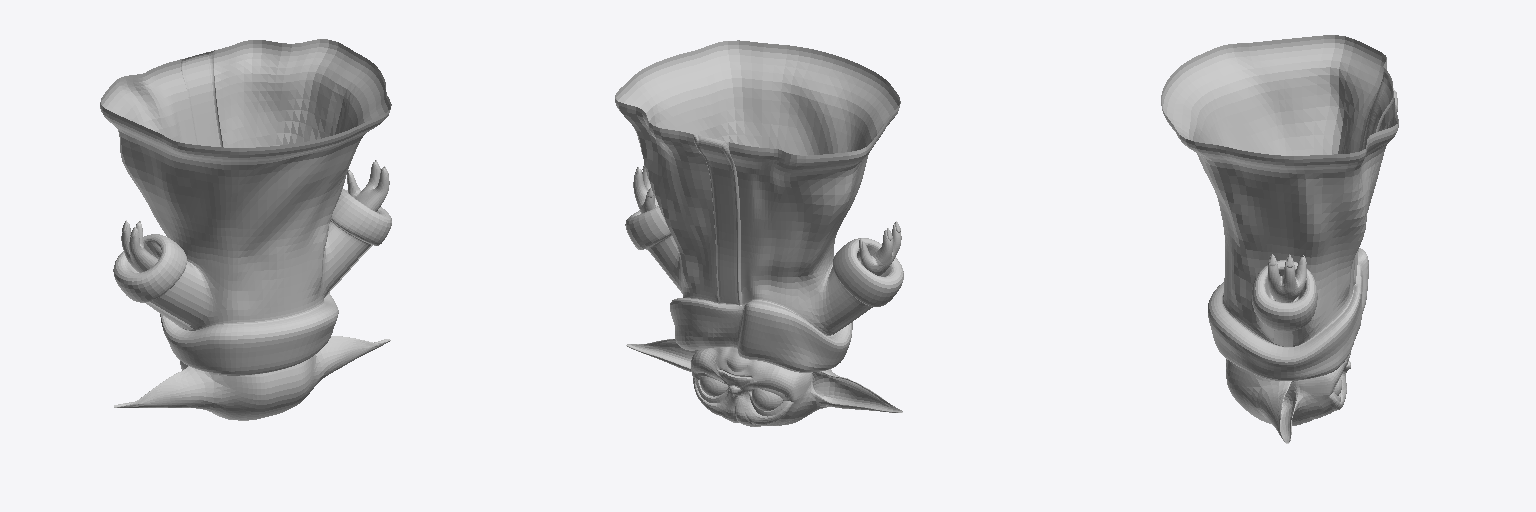
The model's file is obstacleB.obj.
The picture shows the model from 3 angles: view 1: azimuth 30°, elevation 25°; view 2: azimuth 150°, elevation 25°; view 3: azimuth 270°, elevation 25°; orthographic projection.
Parts seen in each view (by area): view 1: The_Child_low_Plane.002; view 2: The_Child_low_Plane.002, Eyes_low_Plane.001; view 3: The_Child_low_Plane.002.
Boxes of the visible parts, <box> form: The_Child_low_Plane.002: <box>100,39,391,420</box>; The_Child_low_Plane.002: <box>615,40,903,426</box>; Eyes_low_Plane.001: <box>700,376,782,410</box>; The_Child_low_Plane.002: <box>1161,35,1398,443</box>.
Size of the model in its own units: 4.12 by 4.54 by 3.07.